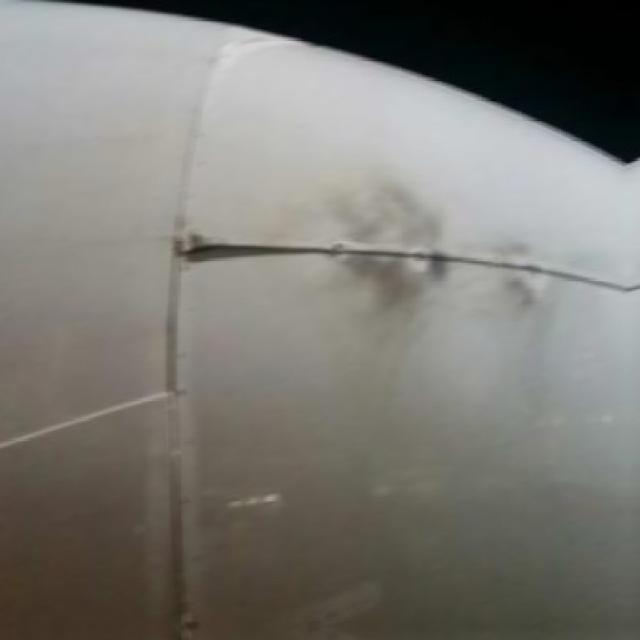crack: (181, 244, 335, 258)
